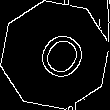O_SW: (23, 22, 87, 88)
